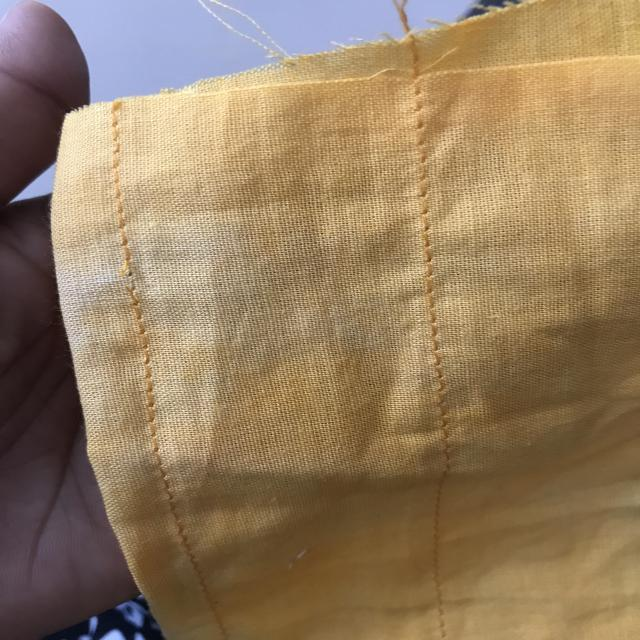broken: (98, 252, 184, 312)
